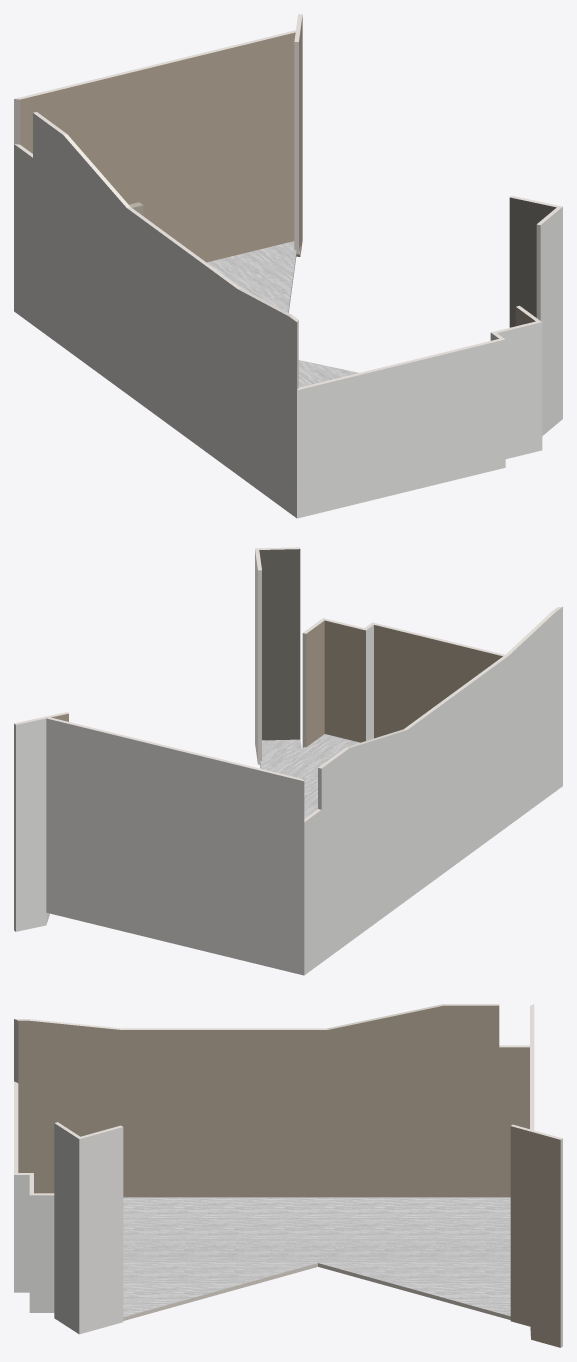
The model's file is TheaterStage.glb.
The picture shows the model from 3 angles, top to bottom: view 1: azimuth 30°, elevation 25°; view 2: azimuth 150°, elevation 25°; view 3: azimuth 270°, elevation 25°; orthographic projection. The views are drawn at different scales.
Parts seen in each view (by area): view 1: wall_6, wall_20, wall_0, wall_1, wall_2, floor_Other, wall_16, wall_23, wall_19, wall_21, wall_28; view 2: wall_5, wall_6, wall_10, wall_14, wall_9, wall_12, floor_Other, wall_24, wall_23, wall_26, wall_17, wall_21 (+2 smaller); view 3: wall_22, floor_Other, wall_3, wall_28, wall_2, wall_18, wall_7, wall_8, floor_Other_2, wall_23, wall_29, wall_21 (+1 smaller).
Boxes of the visible parts, box(x1,y1,x2,y2) form: wall_6: box(14, 113, 296, 518); wall_20: box(20, 32, 295, 262); wall_0: box(297, 339, 505, 518); wall_1: box(497, 322, 542, 458); wall_2: box(540, 207, 562, 435); floor_Other: box(207, 241, 358, 387); wall_16: box(509, 197, 556, 327); wall_23: box(14, 112, 298, 321); wall_19: box(294, 31, 300, 254); wall_21: box(14, 30, 295, 99); wall_28: box(300, 15, 302, 256); wall_5: box(46, 718, 304, 975); wall_6: box(304, 607, 562, 974); wall_10: box(374, 625, 502, 738); wall_14: box(259, 549, 300, 740); wall_9: box(16, 718, 46, 931); wall_12: box(324, 620, 365, 742); floor_Other: box(260, 734, 359, 818); wall_24: box(306, 620, 324, 746); wall_23: box(304, 606, 562, 821); wall_26: box(366, 625, 373, 740); wall_17: box(255, 548, 261, 764); wall_21: box(47, 717, 303, 781); wall_22: box(18, 1005, 529, 1197); floor_Other: box(123, 1197, 510, 1317); wall_3: box(79, 1127, 123, 1334); wall_28: box(531, 1131, 560, 1347); wall_2: box(54, 1123, 79, 1333); wall_18: box(510, 1126, 530, 1326); wall_7: box(29, 1195, 54, 1312); wall_8: box(14, 1175, 29, 1292); floor_Other_2: box(123, 1263, 510, 1320); wall_23: box(15, 1004, 529, 1047); wall_29: box(531, 1130, 562, 1347); wall_21: box(530, 1004, 534, 1130).
Bounding box in the file's own units: 7.69 × 5.49 × 13.14.
24 materials, 1 textured.
